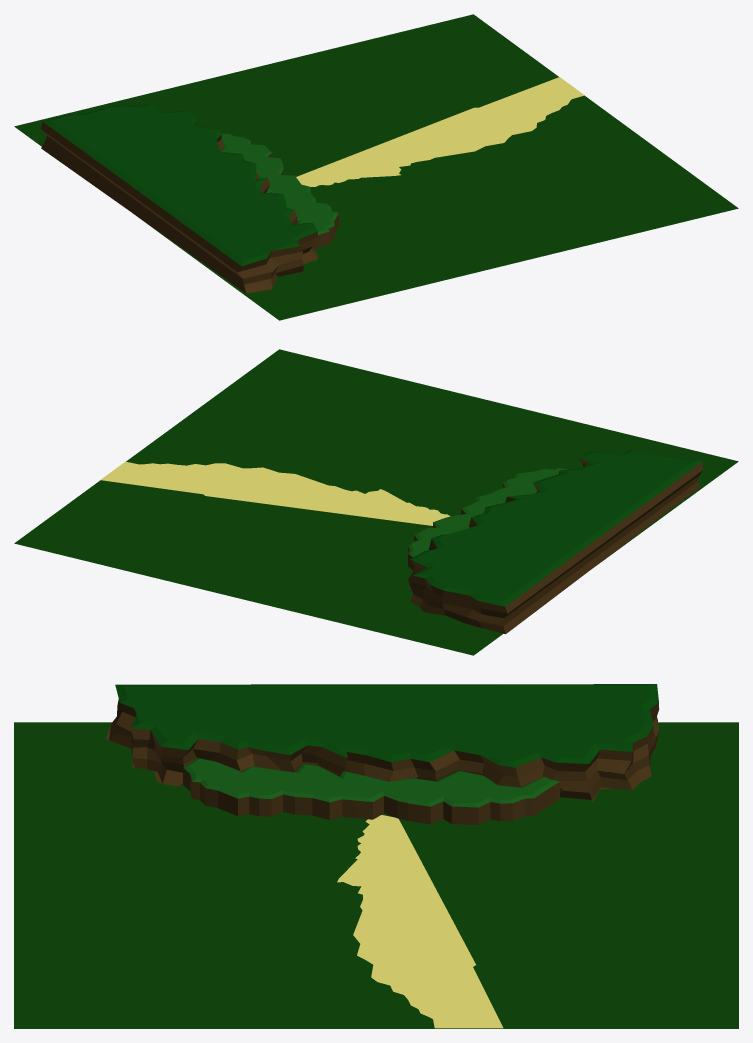
File: TERRENONIVEL2JUNTO.fbx
The picture shows the model from 3 angles, top to bottom: view 1: azimuth 30°, elevation 25°; view 2: azimuth 150°, elevation 25°; view 3: azimuth 270°, elevation 25°; orthographic projection. The views are drawn at different scales.
Parts seen in each view (by area): view 1: Plane.001; view 2: Plane.001; view 3: Plane.001.
Boxes of the visible parts, box(x1,y1,x2,y2) form: Plane.001: box(14, 14, 738, 320); Plane.001: box(14, 349, 738, 655); Plane.001: box(14, 684, 738, 1028).
Size of the model in its own units: 5039 by 302 by 5000.
